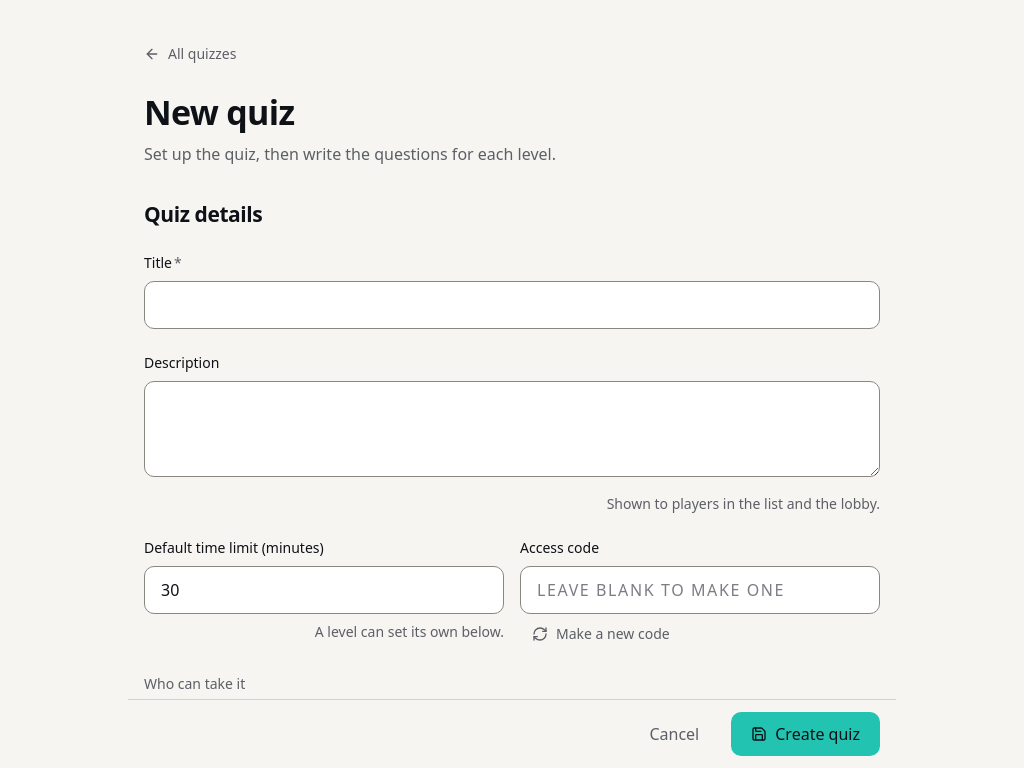
Scenario: creating a quiz › points at the question that is wrong
The width and height of the screenshot is (1024, 768).
Type "Quiz" into the field labelled "Title*" at (512, 305), box [144,281,880,329]
(page scrolled)
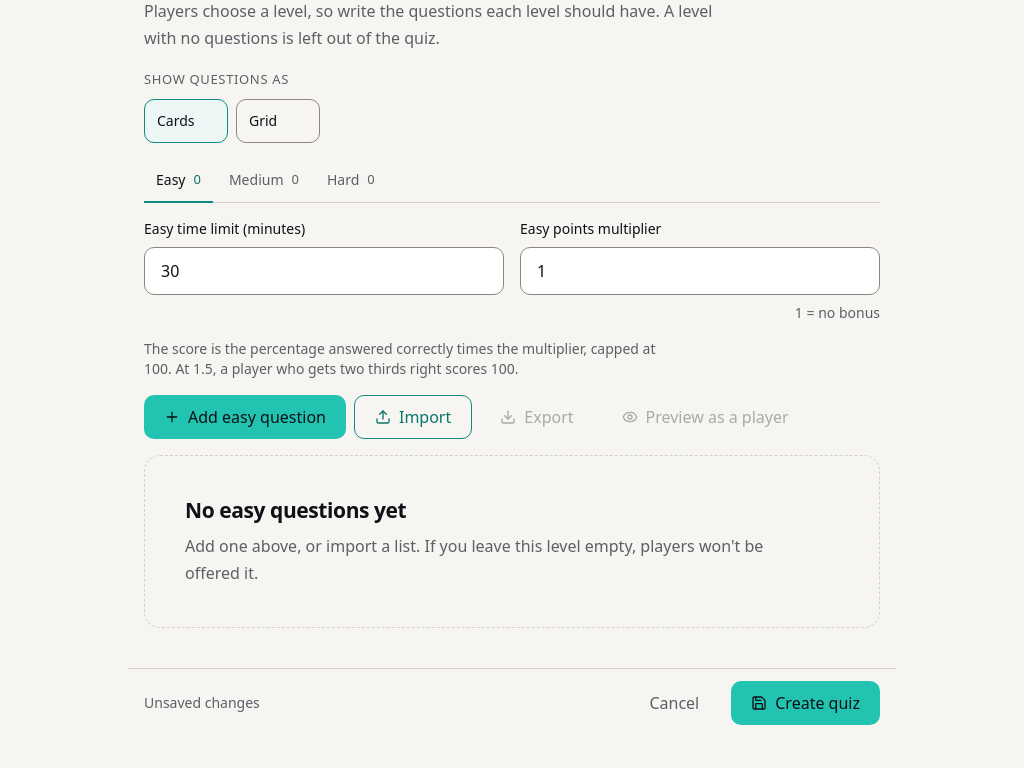
Click the button "Add easy question" at (245, 416), box [144,394,346,438]
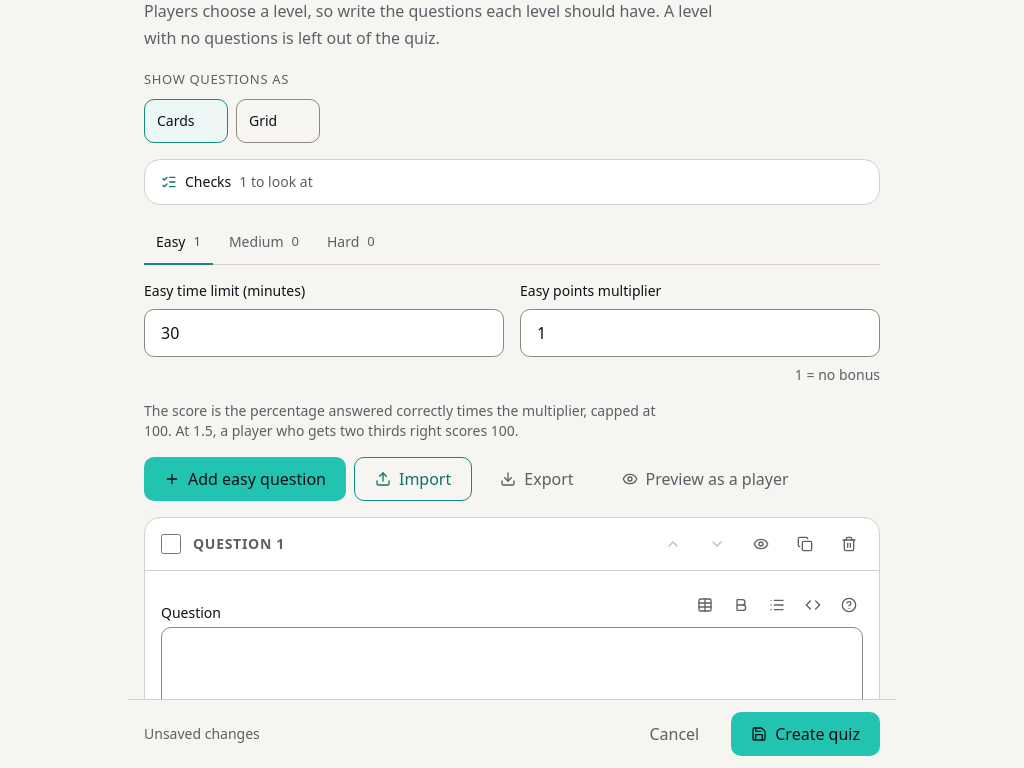
Click the button "Create quiz" at (806, 734), box [731,712,880,756]
(page scrolled)
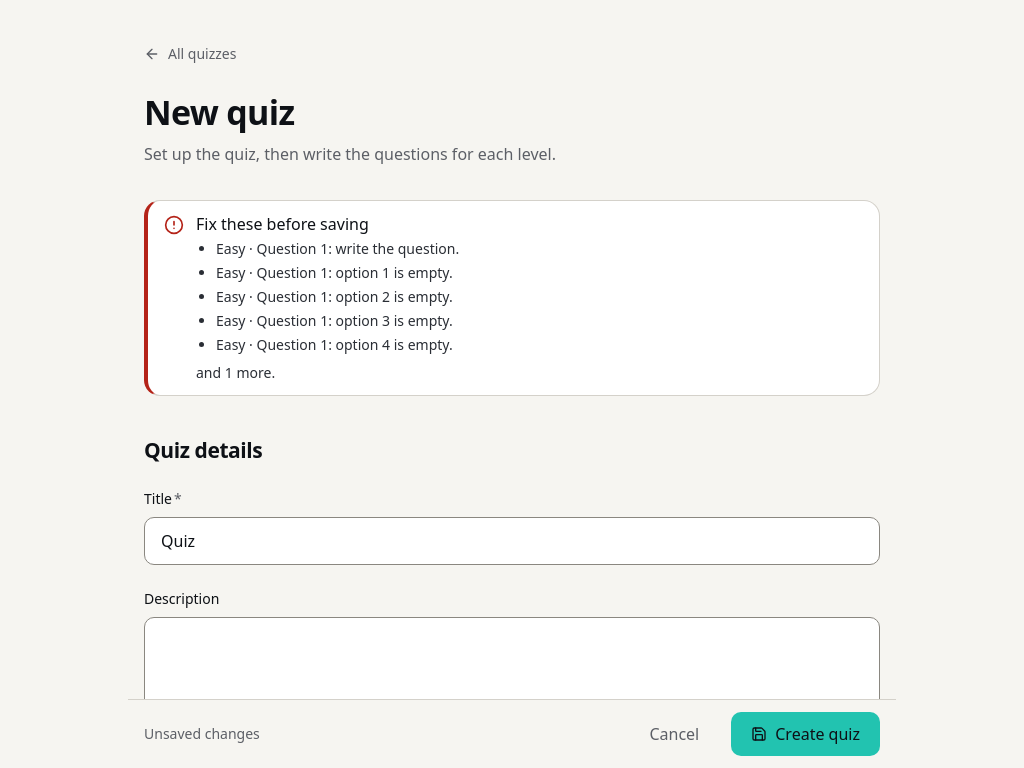
Result: the list item "Easy · Question 1: write the question." is shown at [216,239,459,258]
